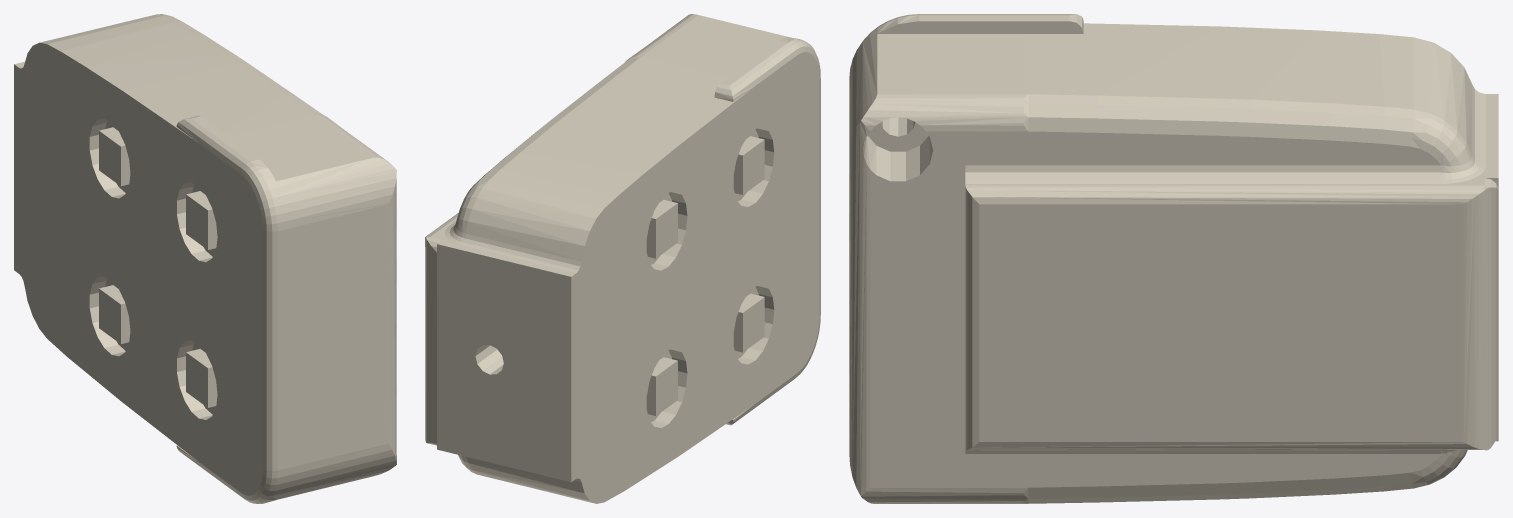
The model's file is dvkr_robot_L3_visual_PSM2_vis_2.dae.
3 views of the same model, side by side, from view 1: azimuth 30°, elevation 25°; view 2: azimuth 150°, elevation 25°; view 3: azimuth 270°, elevation 25° (orthographic). The views are drawn at different scales.
Visible parts, largest first — view 1: Node_0000023515113D30; view 2: Node_0000023515113D30; view 3: Node_0000023515113D30.
Boxes of the visible parts, x1,y1,x2,y2 form: Node_0000023515113D30: [14, 14, 396, 503]; Node_0000023515113D30: [425, 14, 820, 503]; Node_0000023515113D30: [849, 14, 1498, 503].
Size of the model in its own units: 0.033 by 0.0682 by 0.0928.
